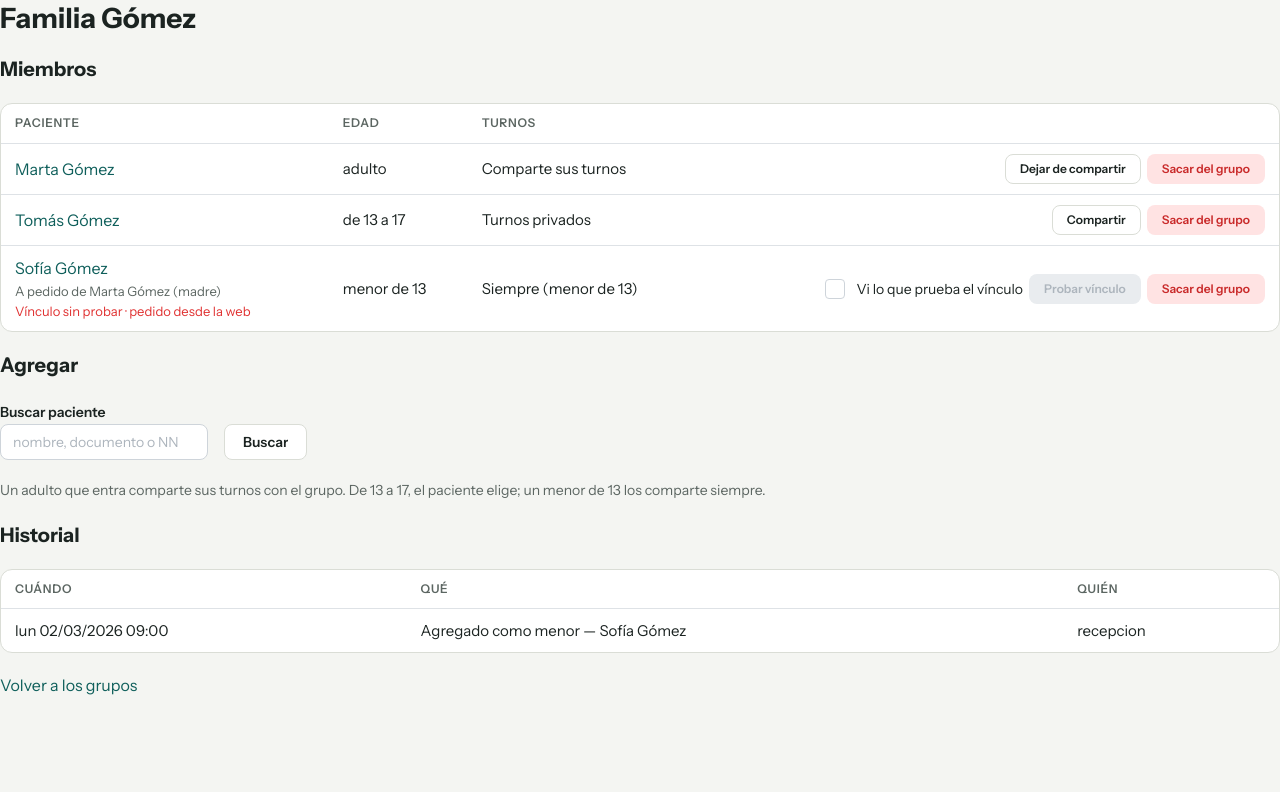
Scenario: a family group › says a refusal in Spanish
Expected: the heading "Familia Gómez" is shown, [0,1,196,35]
Type "Lía" into the field labelled "Buscar paciente" at (104, 442), box [0,424,208,460]
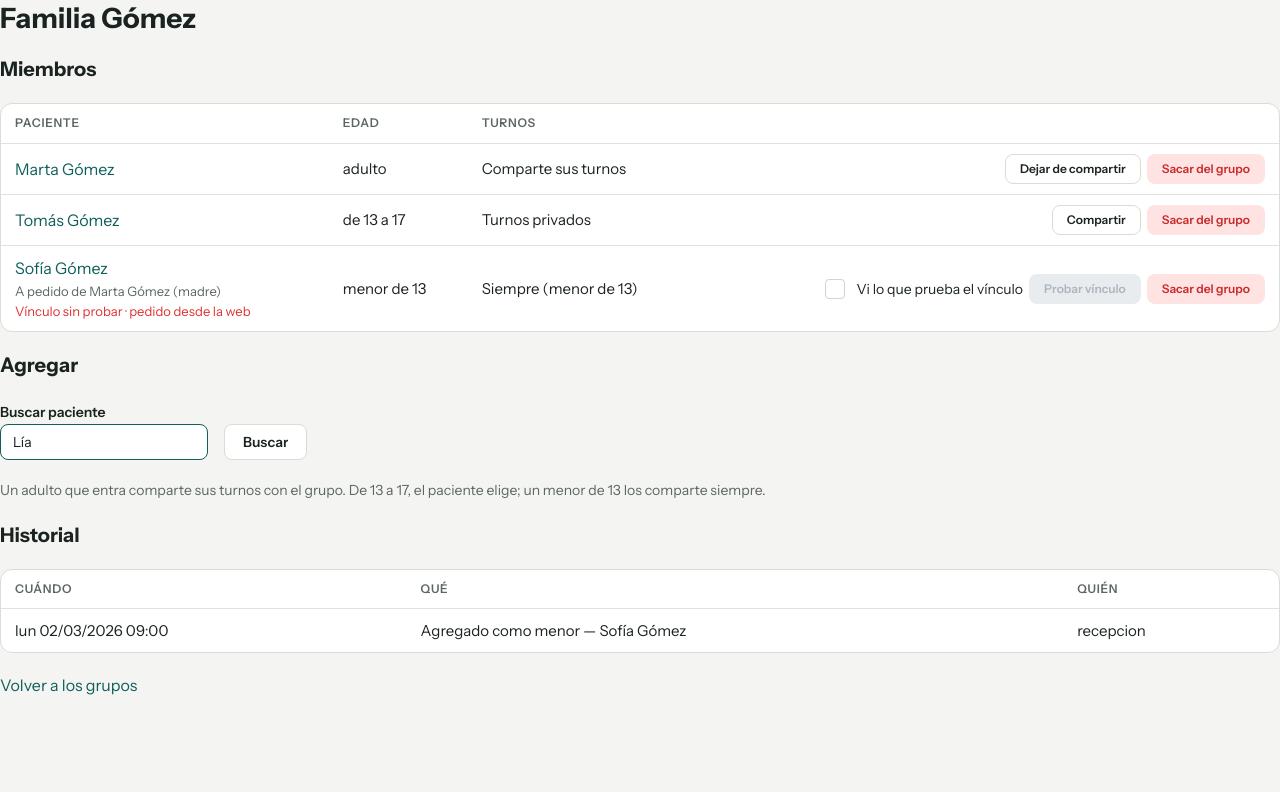
Click the button "Buscar" at (266, 442), box [224,424,307,460]
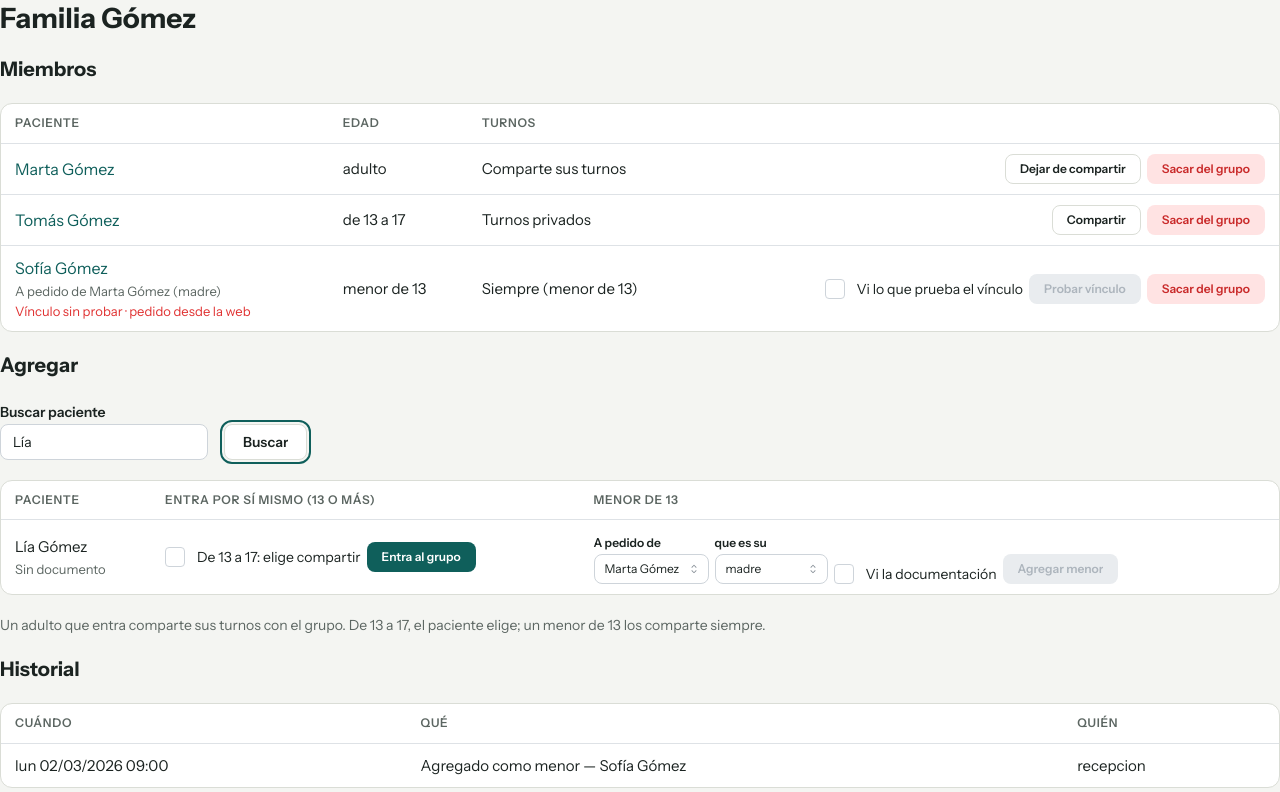
Click the button "Entra al grupo" at (421, 557), box [367,542,476,572]
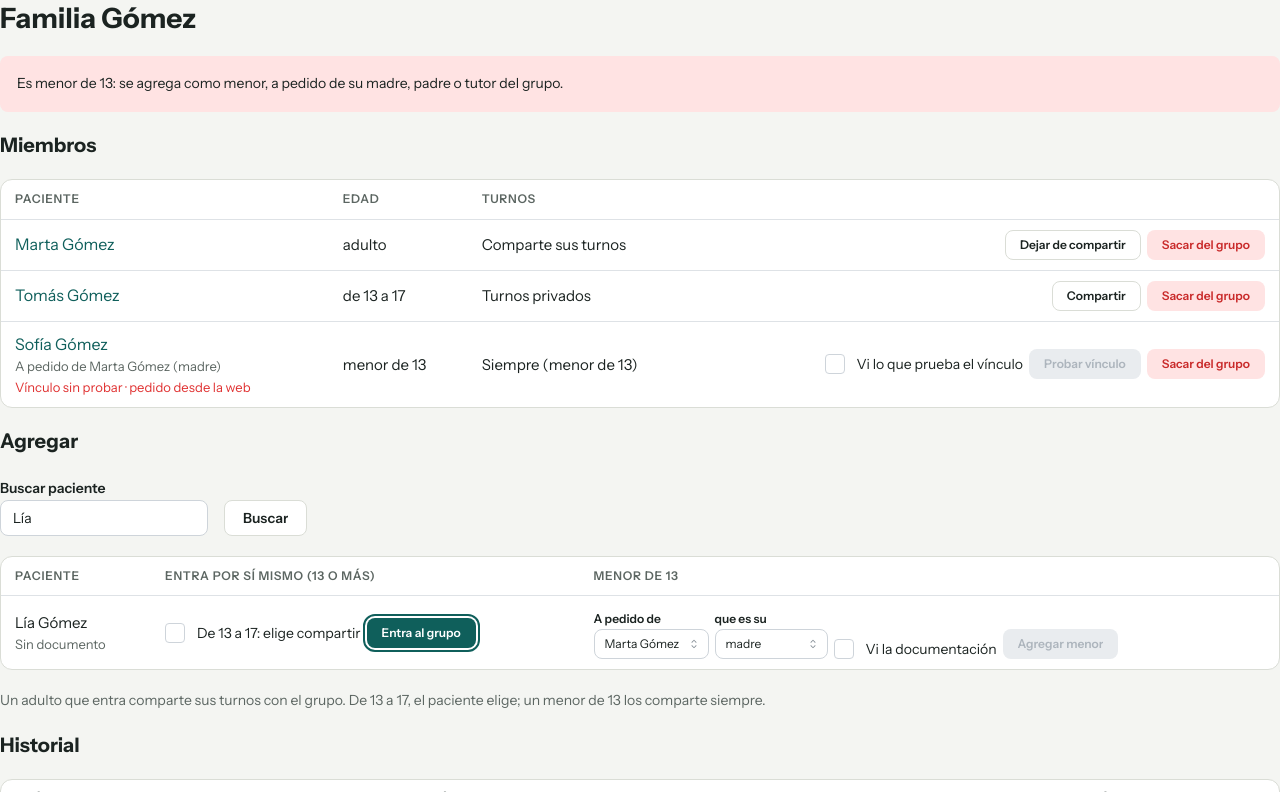
Expected: the message shows "Es menor de 13", [17,74,563,92]
